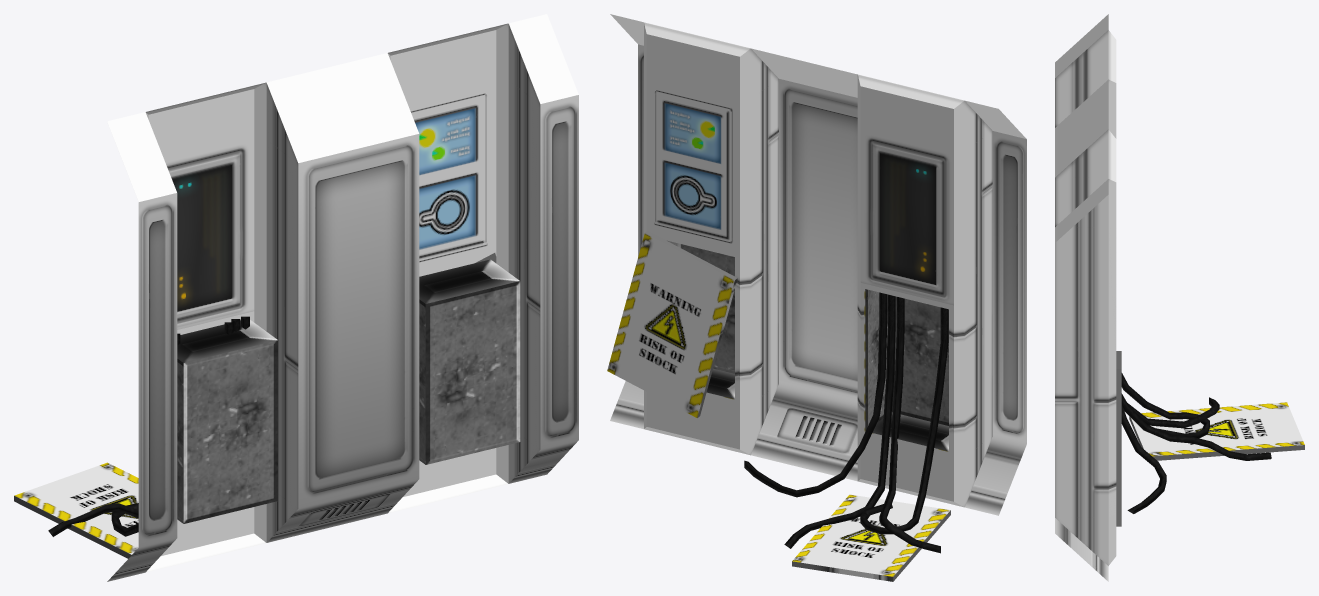
File: Sect_Wall_2b_ServersBroken.FBX
The picture shows the model from 3 angles, left to right: view 1: azimuth 30°, elevation 25°; view 2: azimuth 150°, elevation 25°; view 3: azimuth 270°, elevation 25°; orthographic projection. The views are drawn at different scales.
Parts seen in each view (by area): view 1: Wall_2b_ServersBroken; view 2: Wall_2b_ServersBroken; view 3: Wall_2b_ServersBroken.
Part boxes in pixels (x1,y1,x2,y2): Wall_2b_ServersBroken: (14,14,578,581); Wall_2b_ServersBroken: (607,14,1026,581); Wall_2b_ServersBroken: (1055,14,1304,581).
Size of the model in its own units: 4 by 4.01 by 2.34.
